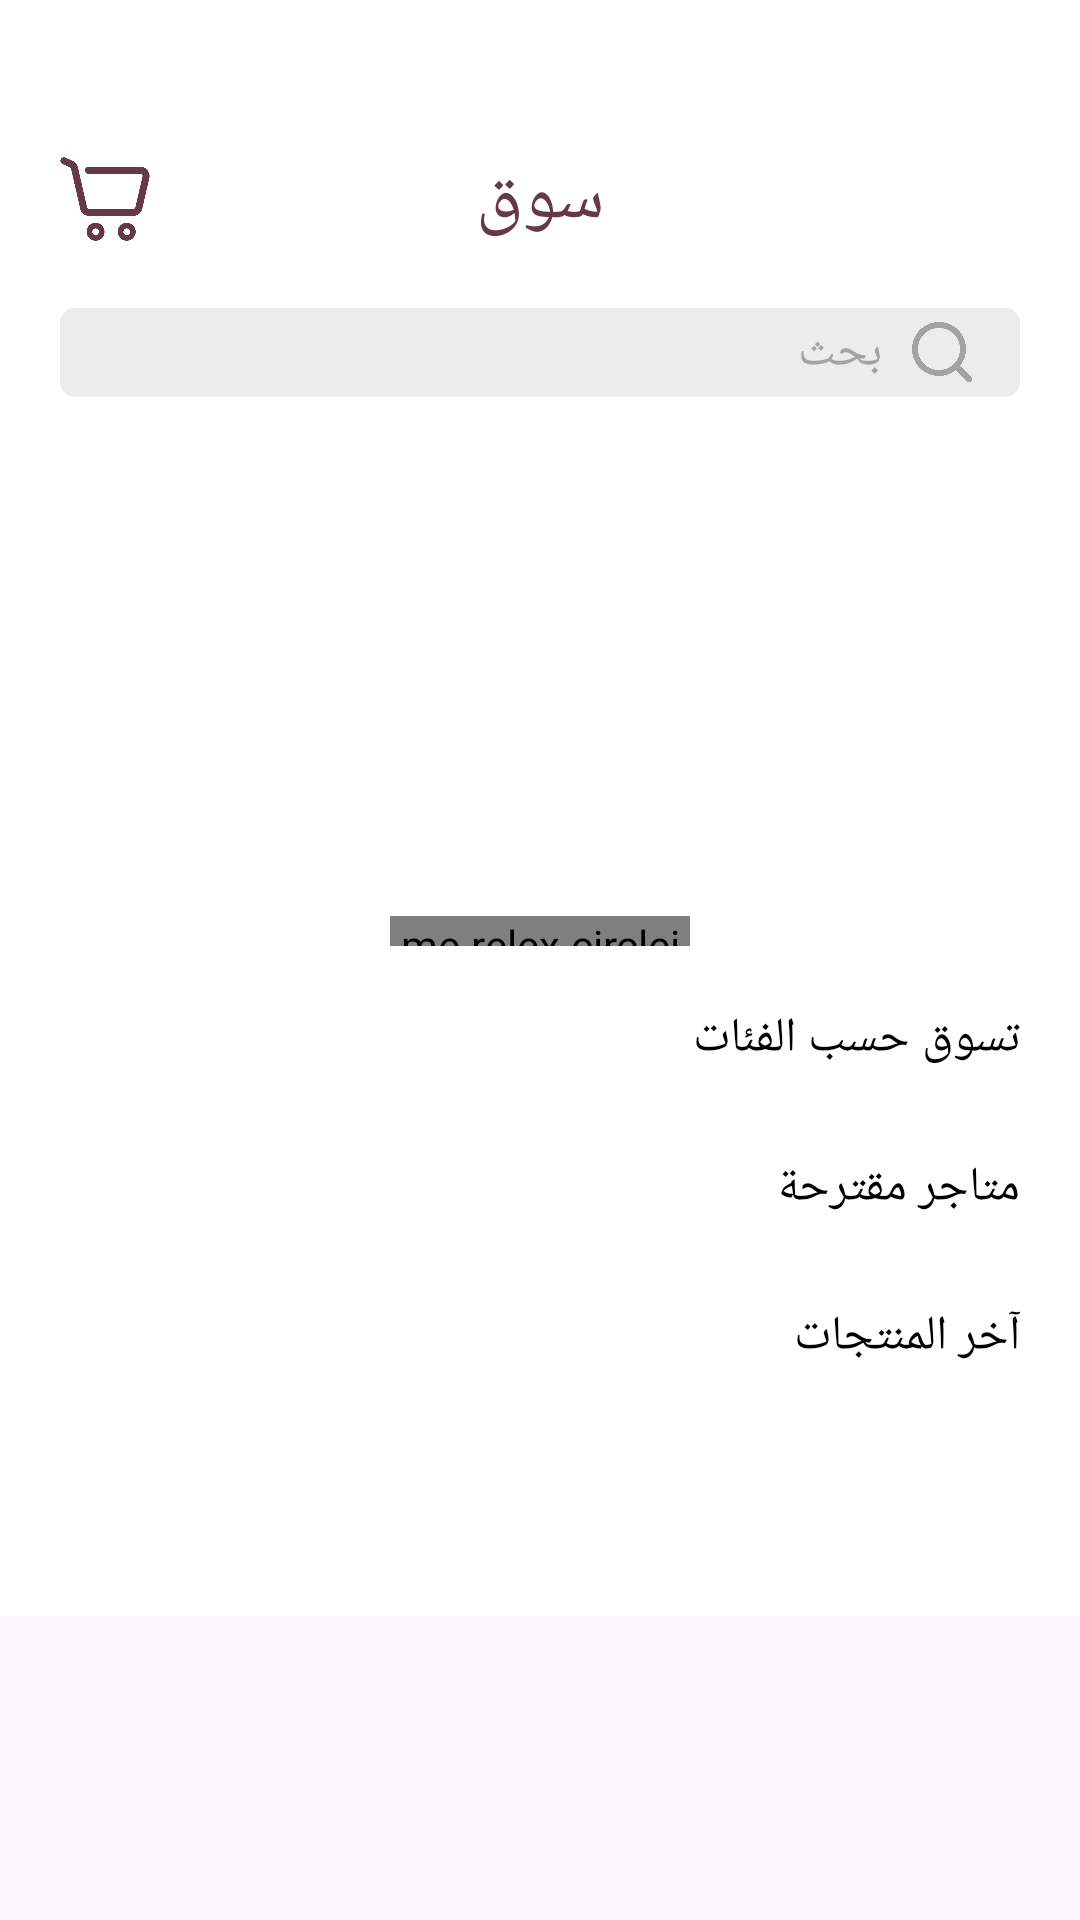

Named icons in this screenshot (1080×1920) and their centers, (x=x, y=y):
cart: (x=105, y=199)
search: (x=942, y=352)
